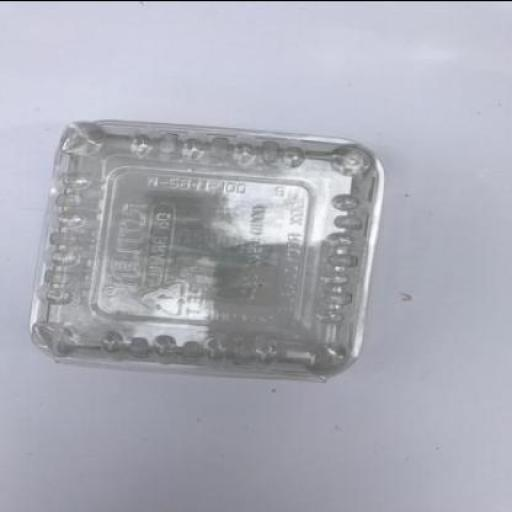plastic: (23, 116, 383, 382)
